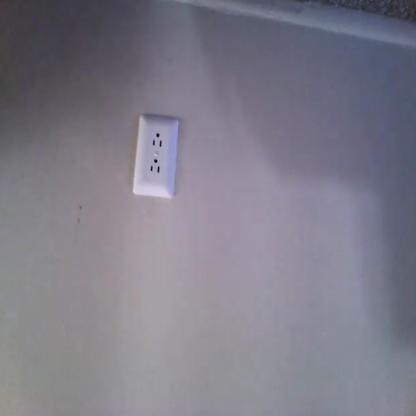OUTLET: (132, 115, 180, 196)
